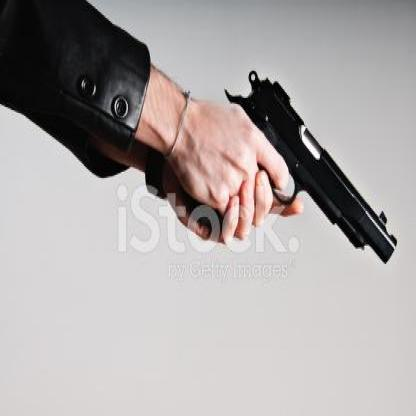pistol: (181, 68, 397, 264)
